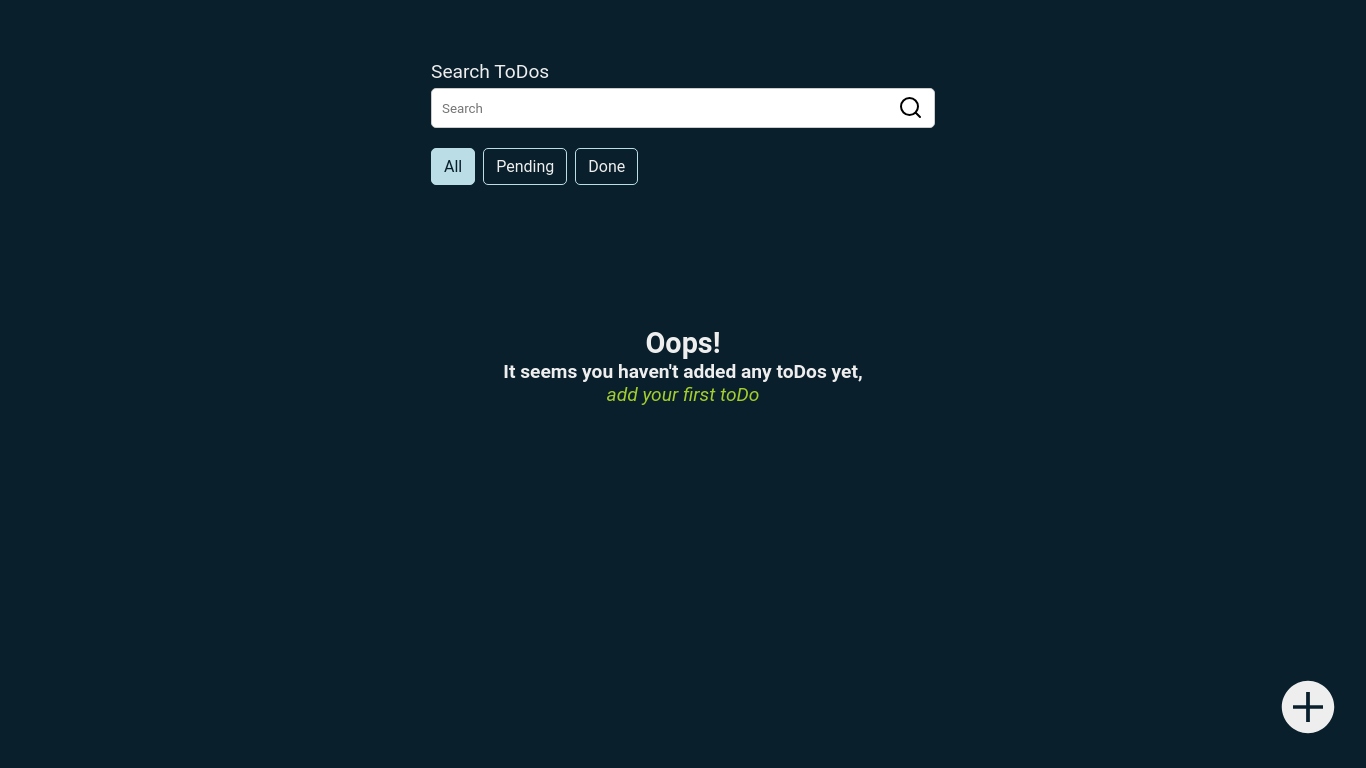
Test: App › opens the add modal and creates a task
Step 1. Click the button "add your first toDo" → coordinates (683, 394), box [607,383,759,406]
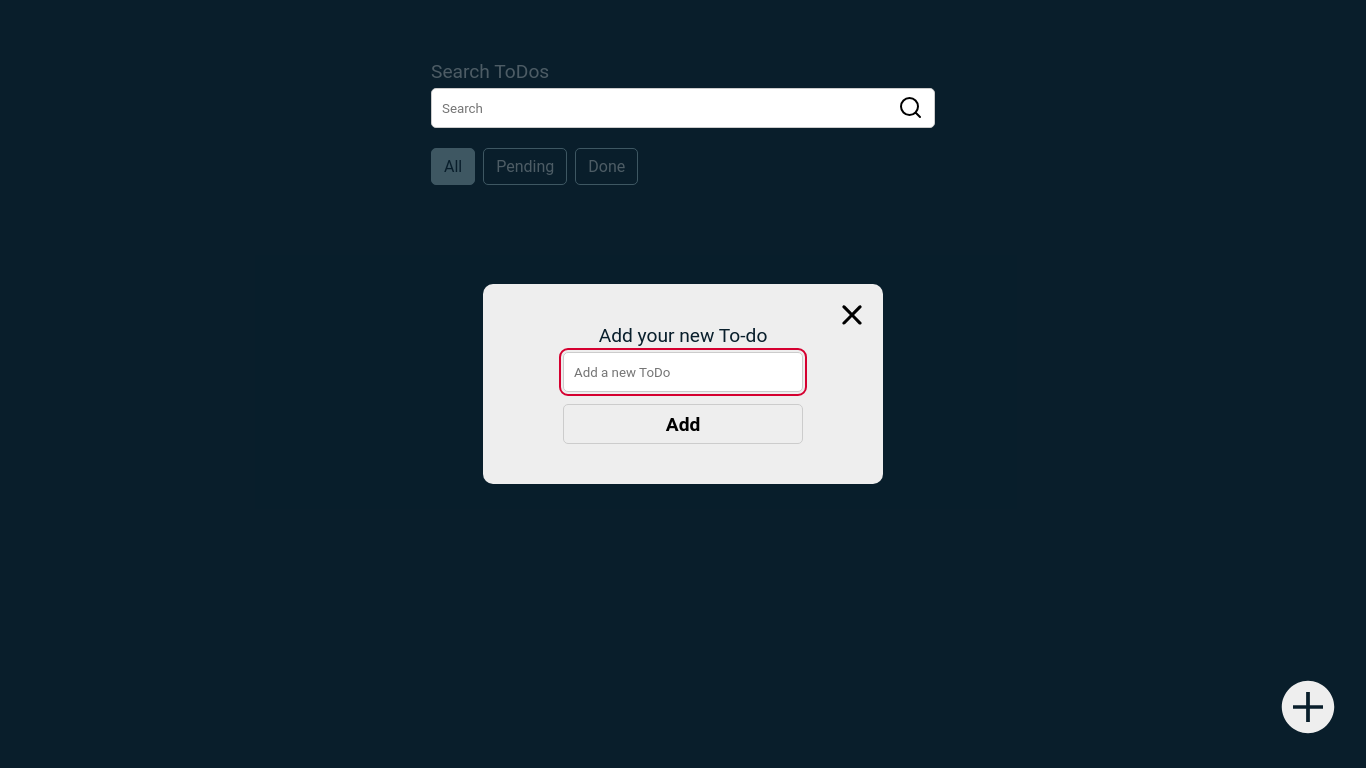
Result: the field labelled "Add your new To-do" is shown
Step 2. Type "Read a book" into the field labelled "Add your new To-do" → coordinates (683, 372), box [563,352,803,392]
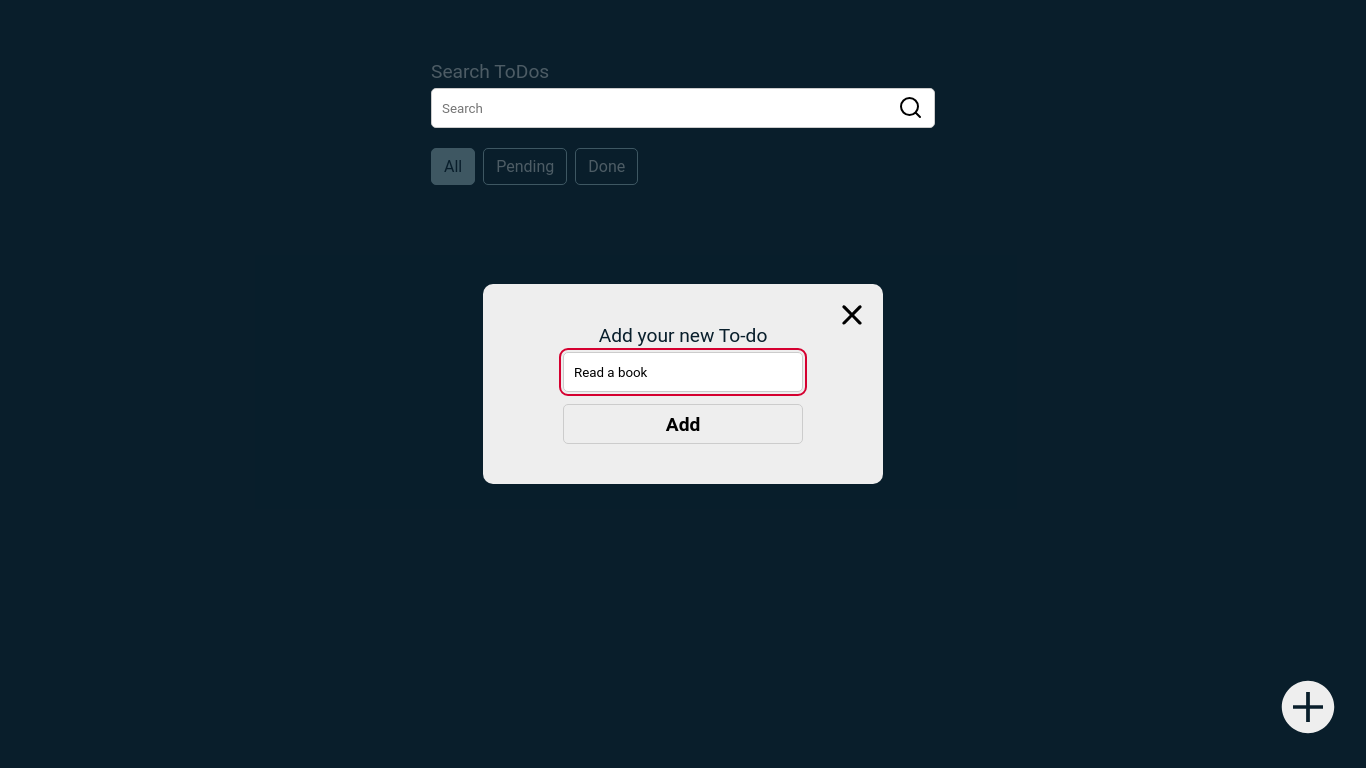
Step 3. Click the button "Add" → coordinates (683, 424), box [563,404,803,444]
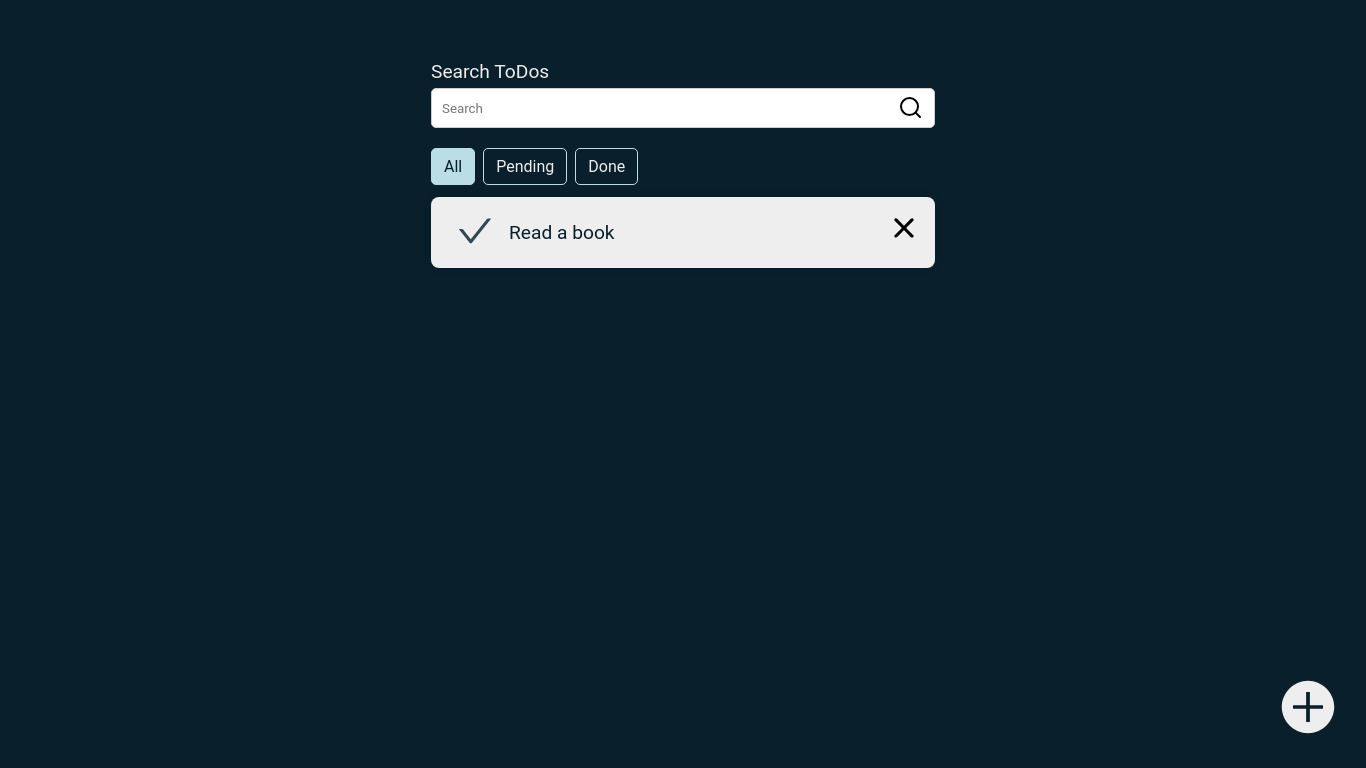
Result: the label "Add your new To-do" is gone
Result: the text "Read a book" is shown at [509,221,615,244]
